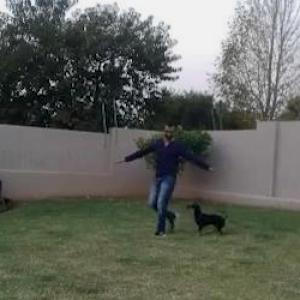land: (136, 119, 223, 223)
